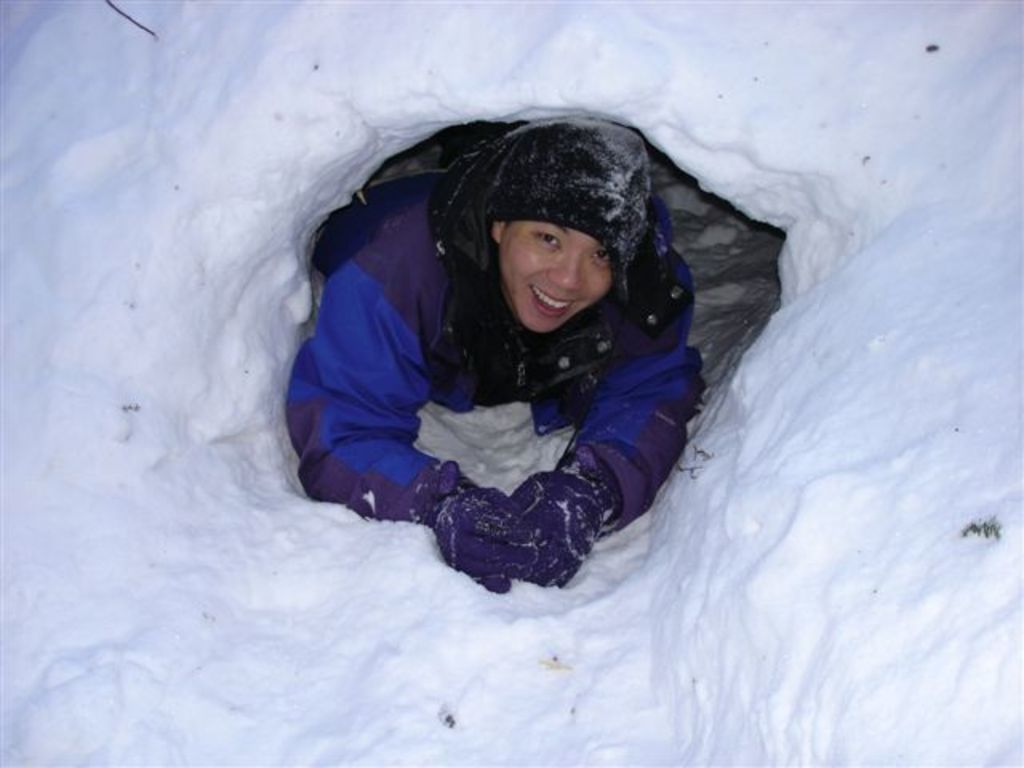Person: (284, 118, 707, 593)
